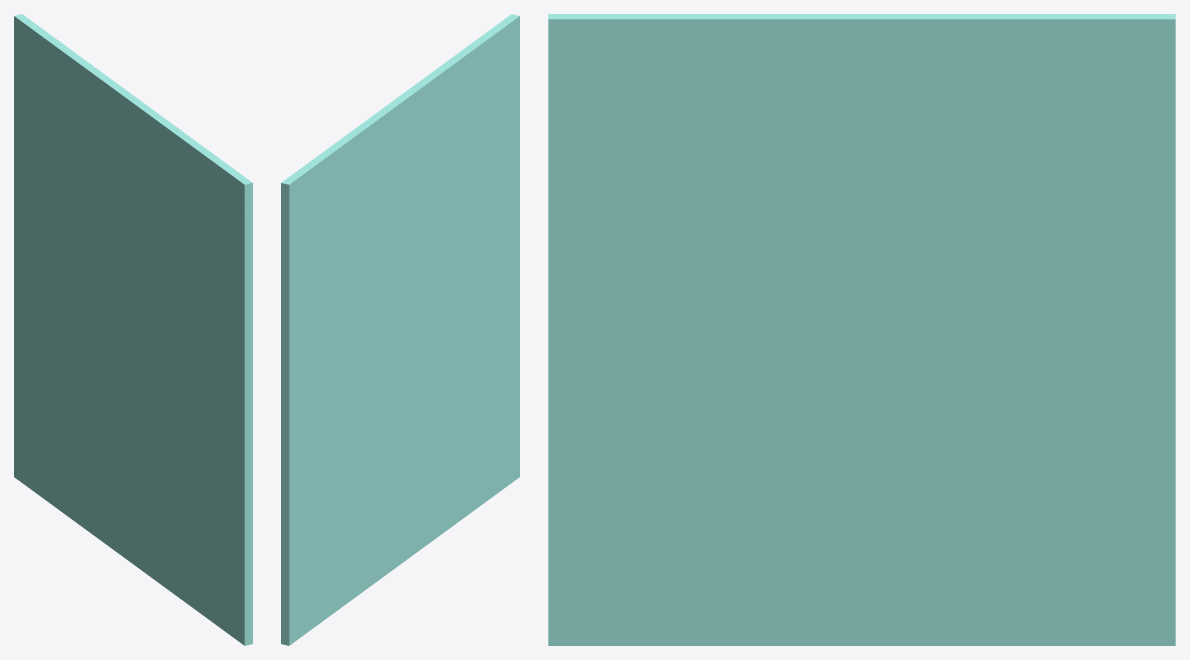
The model's file is vrido.fbx.
3 renders of one model, left to right at view 1: azimuth 30°, elevation 25°; view 2: azimuth 150°, elevation 25°; view 3: azimuth 270°, elevation 25°, orthographic. The views are drawn at different scales.
Visible parts, largest first — view 1: vrido; view 2: vrido; view 3: vrido.
Boxes of the visible parts, left/top/right/bottom form: vrido: left=14, top=14, right=252, bottom=645; vrido: left=281, top=14, right=519, bottom=645; vrido: left=548, top=14, right=1175, bottom=645.
Size of the model in its own units: 6.59 by 357 by 324.
